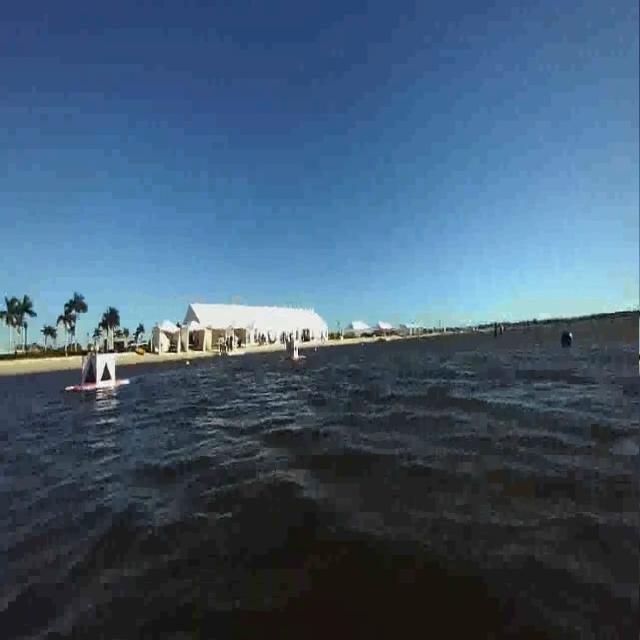black-buoy: (562, 325, 572, 353)
